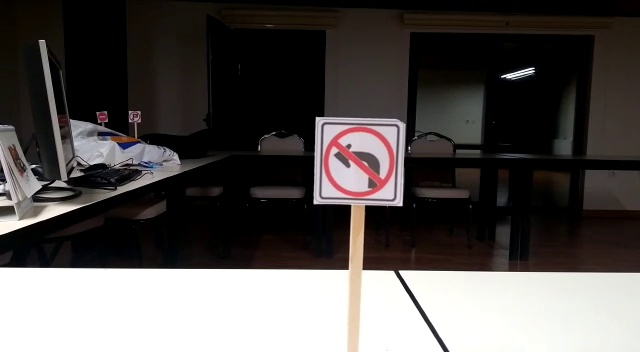sola_donulmez: (324, 125, 409, 208)
